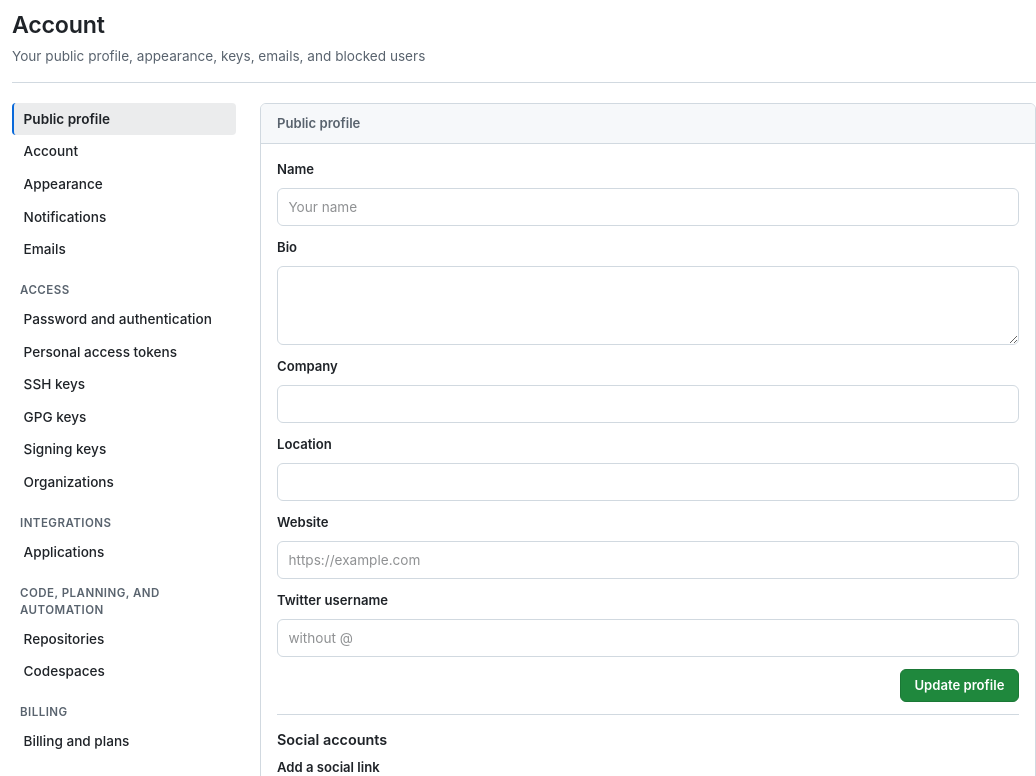
Test: AccountPage › tells a federated account its credentials live with the identity provider
Click the button "Password and authentication" at (124, 319), box [12,303,236,335]
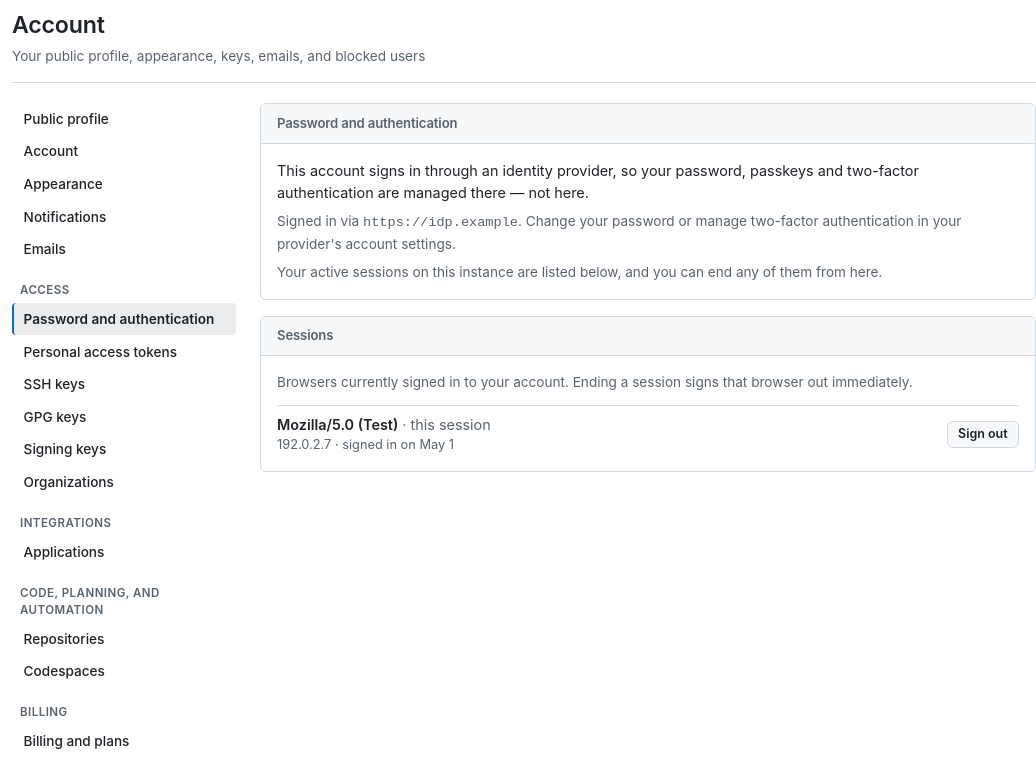
Expected: the text "signs in through an identity provider" is shown, [277,162,919,201]
Expected: the text "https://idp.example" is shown, [363,215,518,230]
